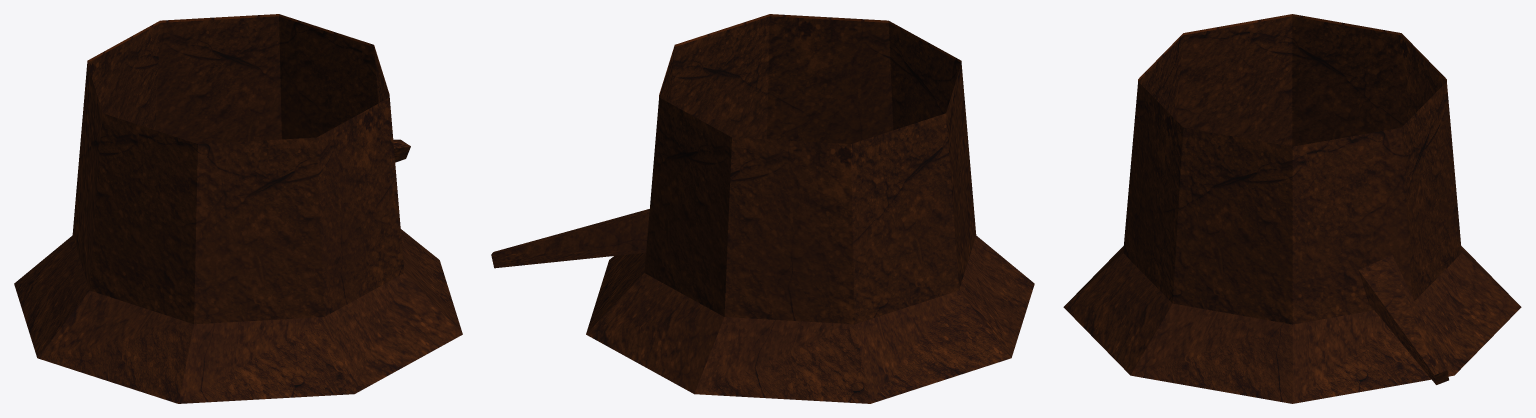
File: stump_01_real.gltf
3 renders of one model, left to right at view 1: azimuth 30°, elevation 25°; view 2: azimuth 150°, elevation 25°; view 3: azimuth 270°, elevation 25°, orthographic.
Parts seen in each view (by area): view 1: stump_01; view 2: stump_01; view 3: stump_01.
Part boxes in pixels (box(x1,y1,x2,y2)): stump_01: box(14, 14, 462, 403); stump_01: box(491, 14, 1034, 403); stump_01: box(1063, 14, 1521, 403).
Size of the model in its own units: 1.02 by 0.505 by 0.92.
2 materials, 2 textured.
